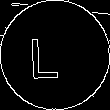L_N: (39, 29, 71, 81)
